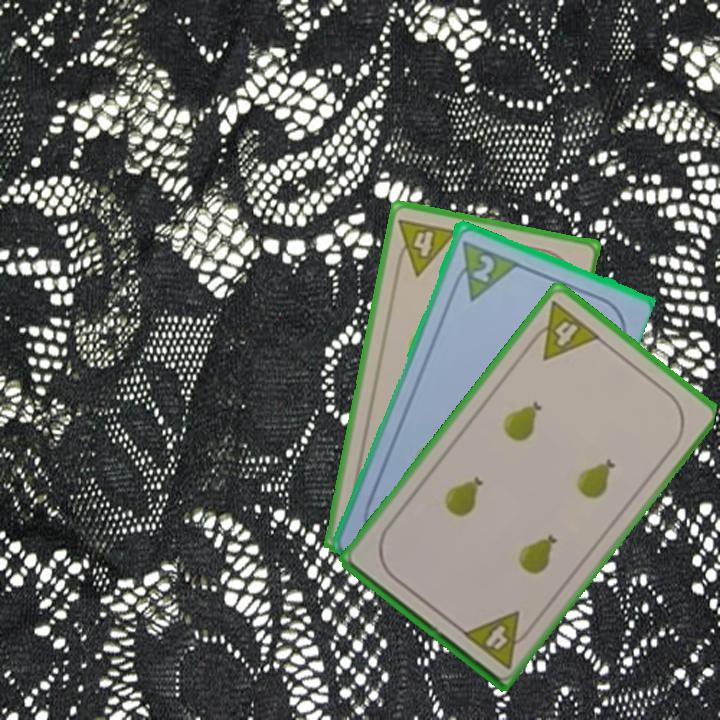2p: (468, 250, 498, 285)
4p: (523, 296, 604, 363), (458, 607, 537, 671), (391, 214, 460, 279)
